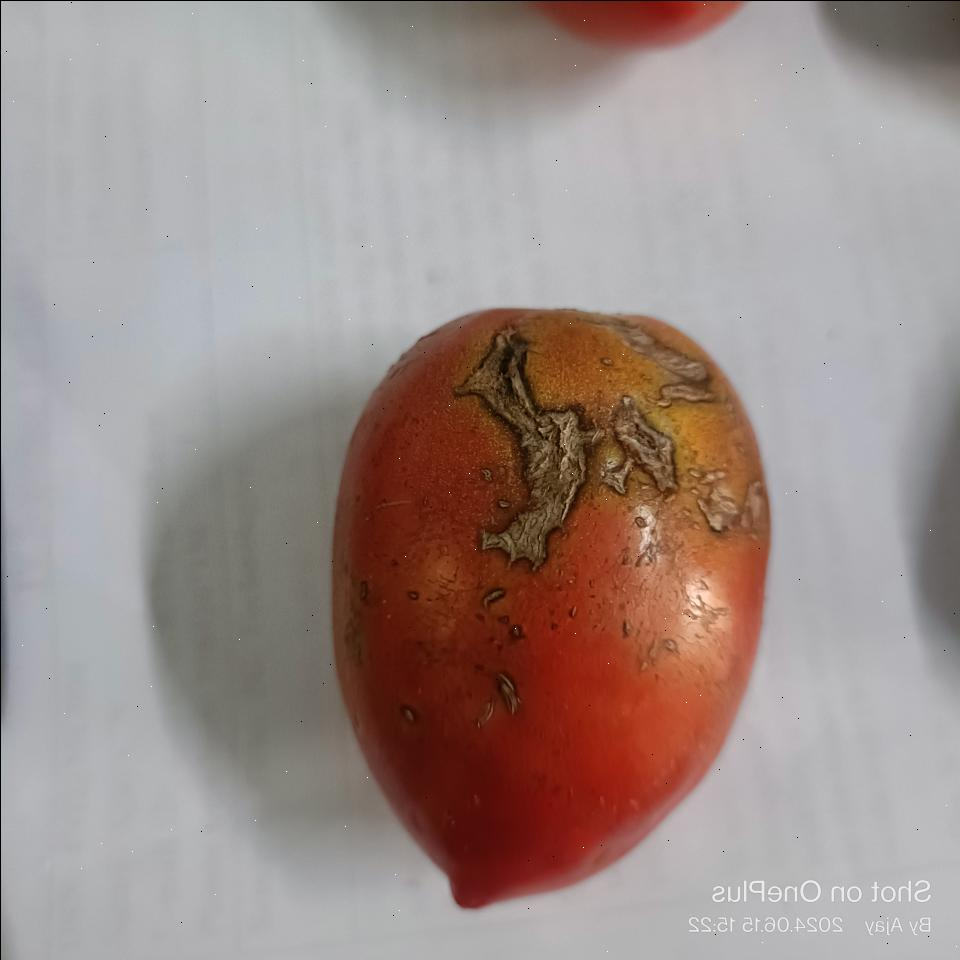Cracking: (441, 308, 611, 576)
